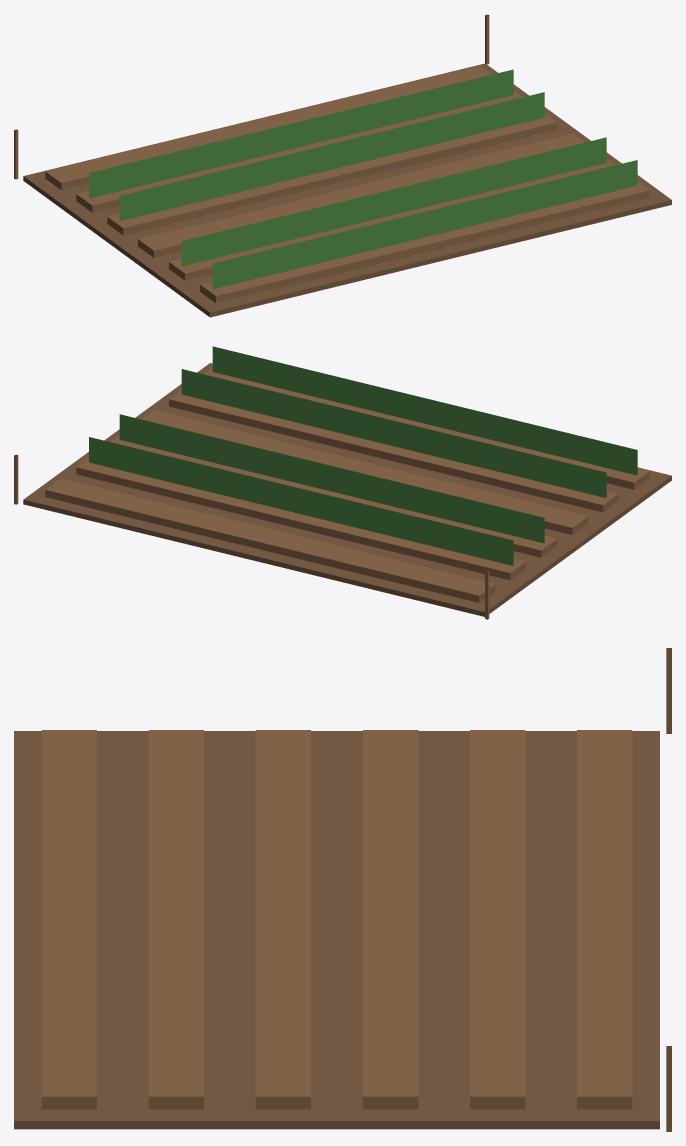
File: field.glb
The picture shows the model from 3 angles, top to bottom: view 1: azimuth 30°, elevation 25°; view 2: azimuth 150°, elevation 25°; view 3: azimuth 270°, elevation 25°; orthographic projection. The views are drawn at different scales.
Parts seen in each view (by area): view 1: field; view 2: field; view 3: field.
Boxes of the visible parts, box(x1,y1,x2,y2) form: field: box(14, 14, 671, 317); field: box(14, 346, 671, 619); field: box(14, 648, 671, 1131).
Size of the model in its own units: 10.26 by 1.03 by 7.13.
